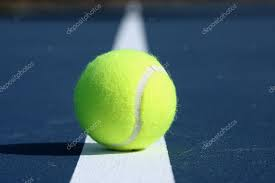tennis_ball: (73, 48, 178, 153)
